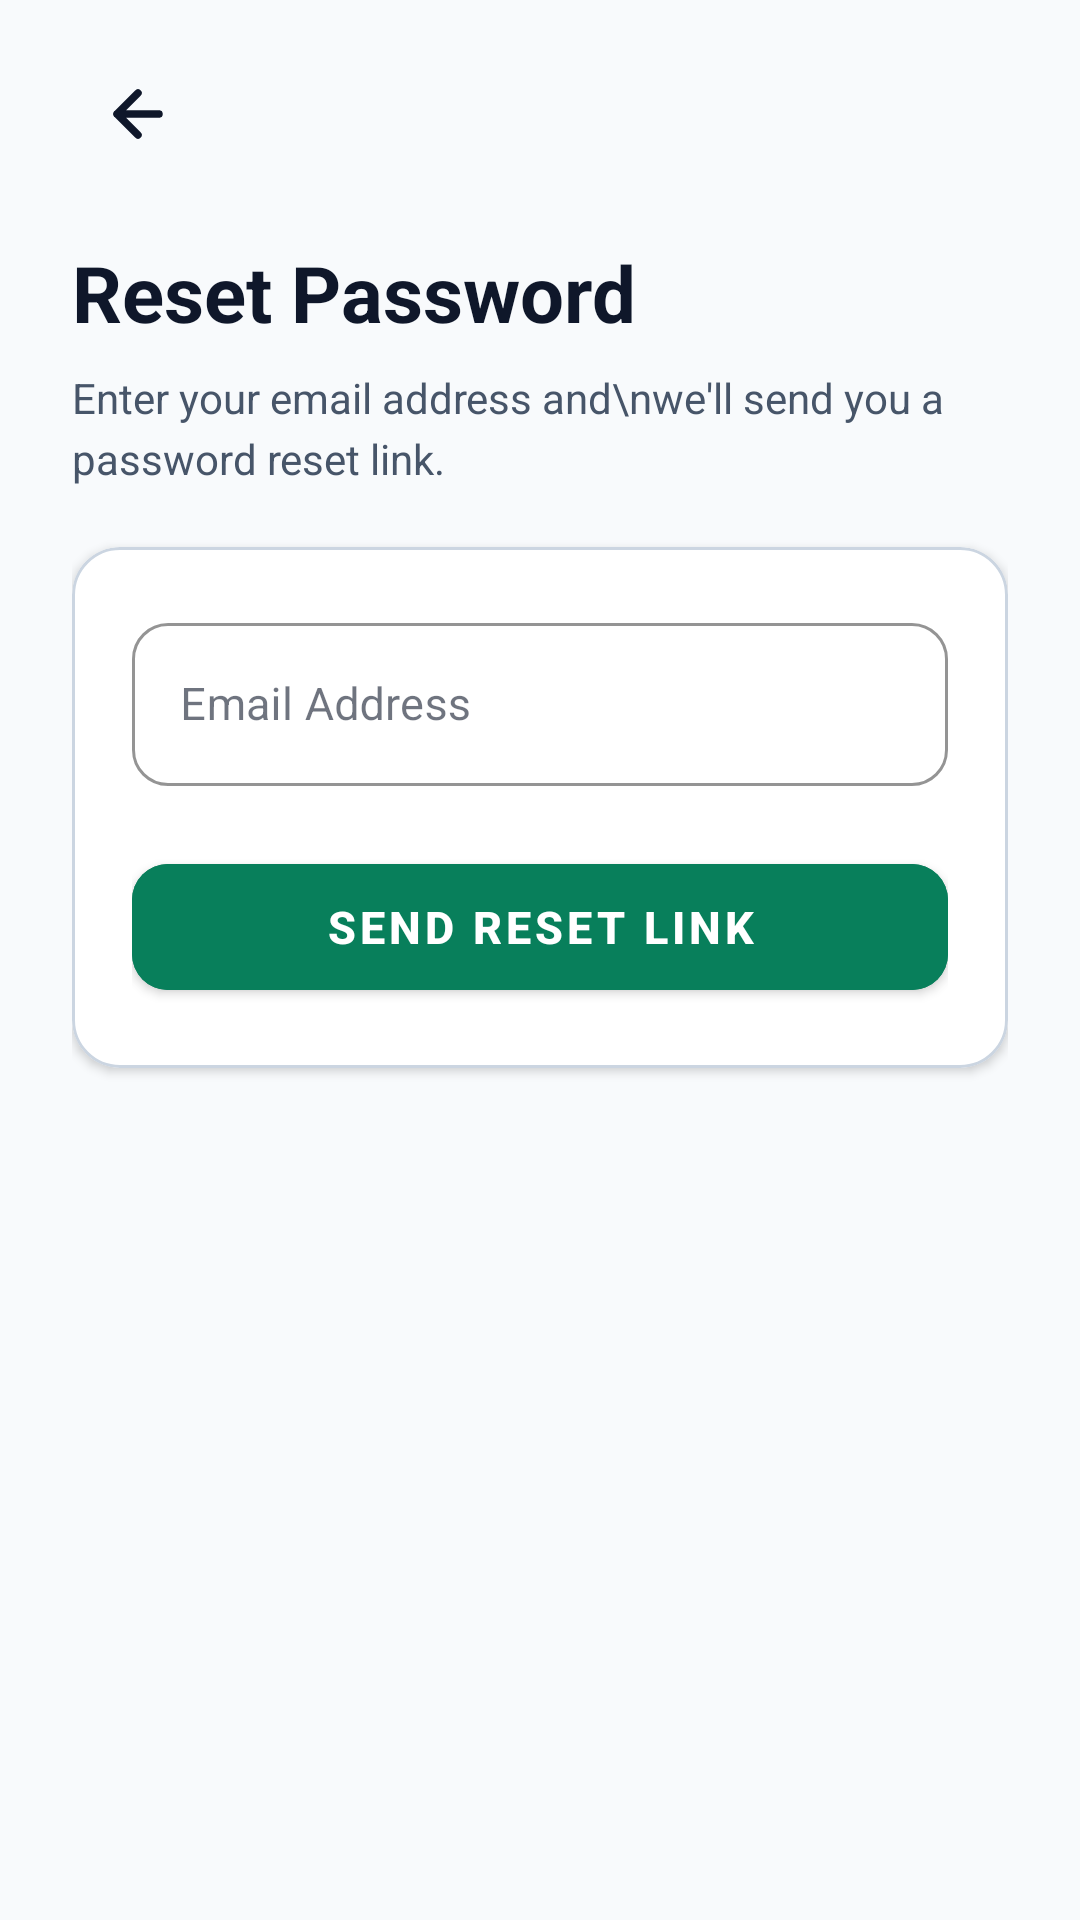

Named icons in this screenshot (1080px x 1920px) and their bounding boxes, (x1, y1, x2, y2):
Back: (113, 89, 163, 139)
